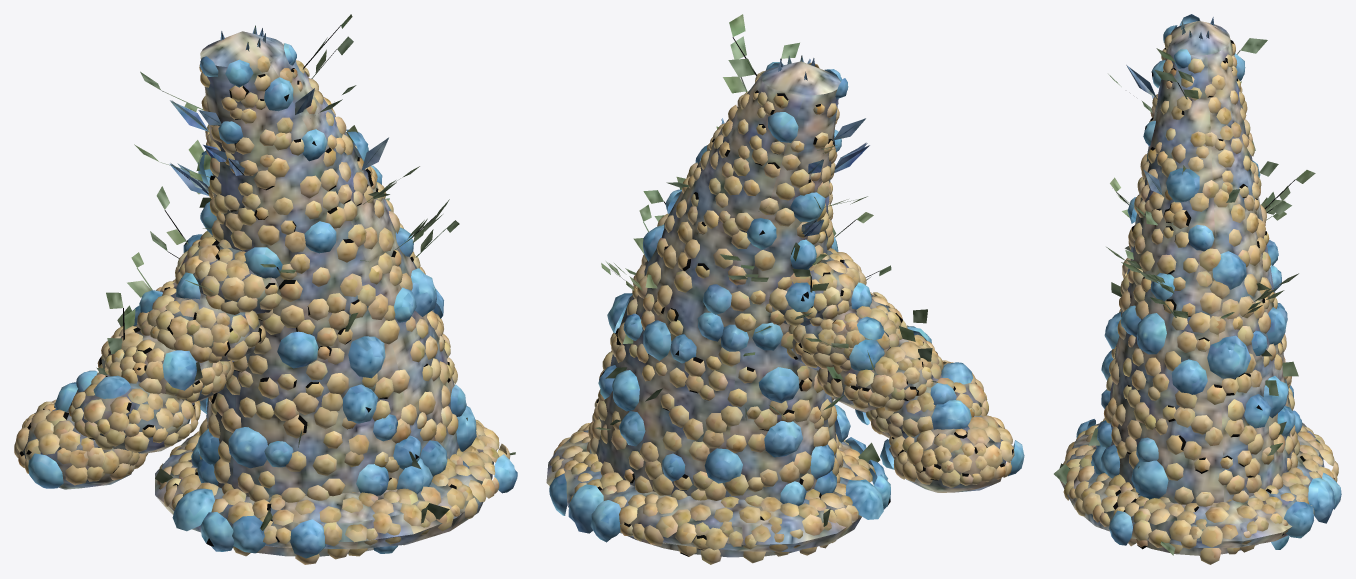
File: installation_small.glb
3 renders of one model, left to right at view 1: azimuth 30°, elevation 25°; view 2: azimuth 150°, elevation 25°; view 3: azimuth 270°, elevation 25°, orthographic. The views are drawn at different scales.
Parts seen in each view (by area): view 1: installation_small; view 2: installation_small; view 3: installation_small.
Part boxes in pixels (x1=…): installation_small: x1=14, y1=14, x2=517, y2=564; installation_small: x1=546, y1=14, x2=1024, y2=564; installation_small: x1=1054, y1=14, x2=1341, y2=564.
Bounding box in the file's own units: 2.88 × 3 × 1.68.
Materials: 1 (1 with a texture image).
